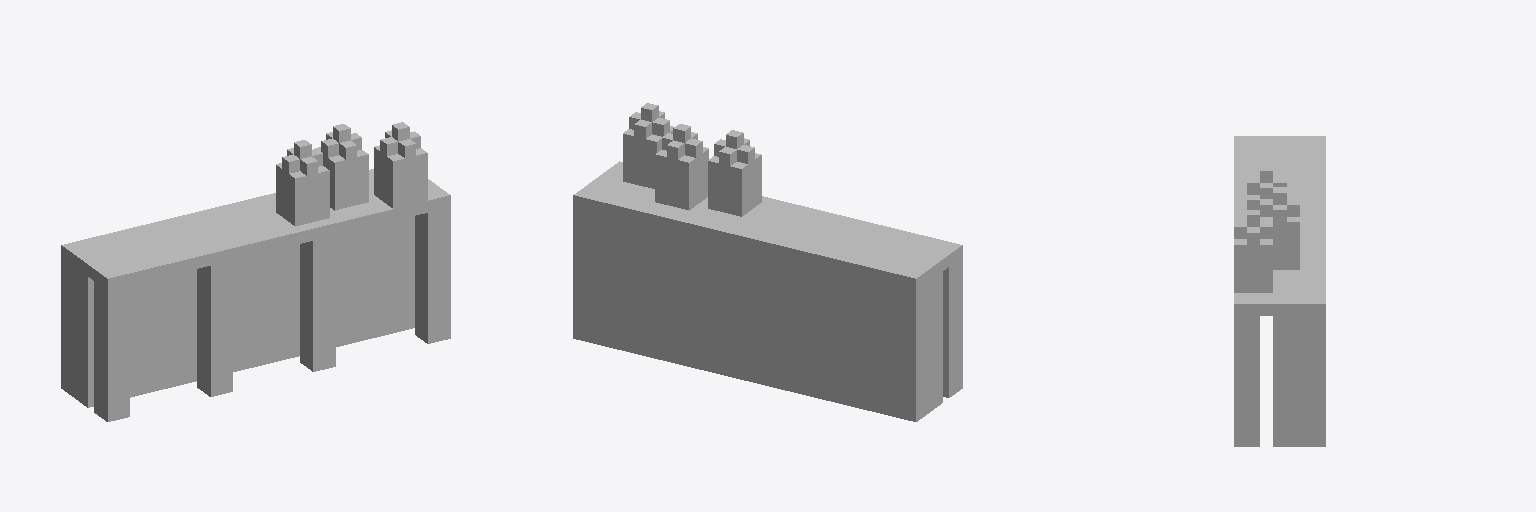
Rendered from Bar.obj.
3 renders of one model, left to right at view 1: azimuth 30°, elevation 25°; view 2: azimuth 150°, elevation 25°; view 3: azimuth 270°, elevation 25°, orthographic.
Parts seen in each view (by area): view 1: object 1; view 2: object 1; view 3: object 1.
Part boxes in pixels (left/top/right/bottom): object 1: left=61, top=122, right=450, bottom=421; object 1: left=573, top=103, right=962, bottom=421; object 1: left=1234, top=136, right=1325, bottom=446.
Size of the model in its own units: 3 by 1.8 by 0.7.